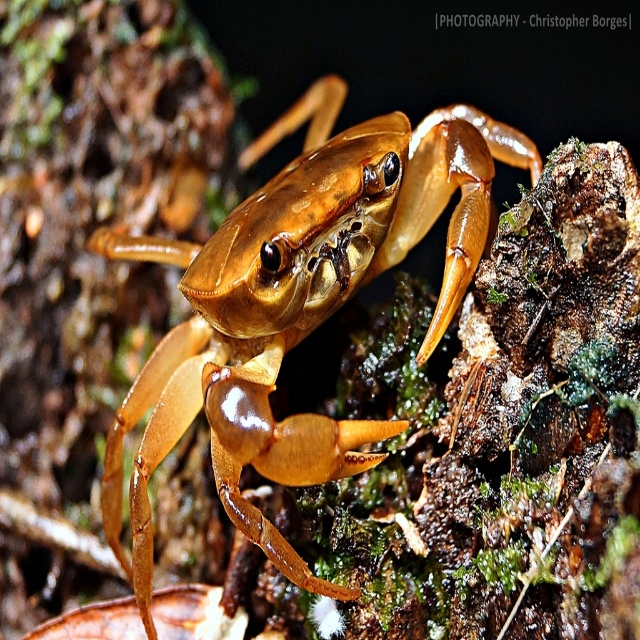Crab: (86, 73, 544, 640)
